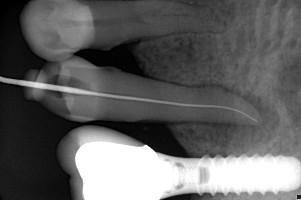Furcation Involvement: (191, 86, 282, 149)
